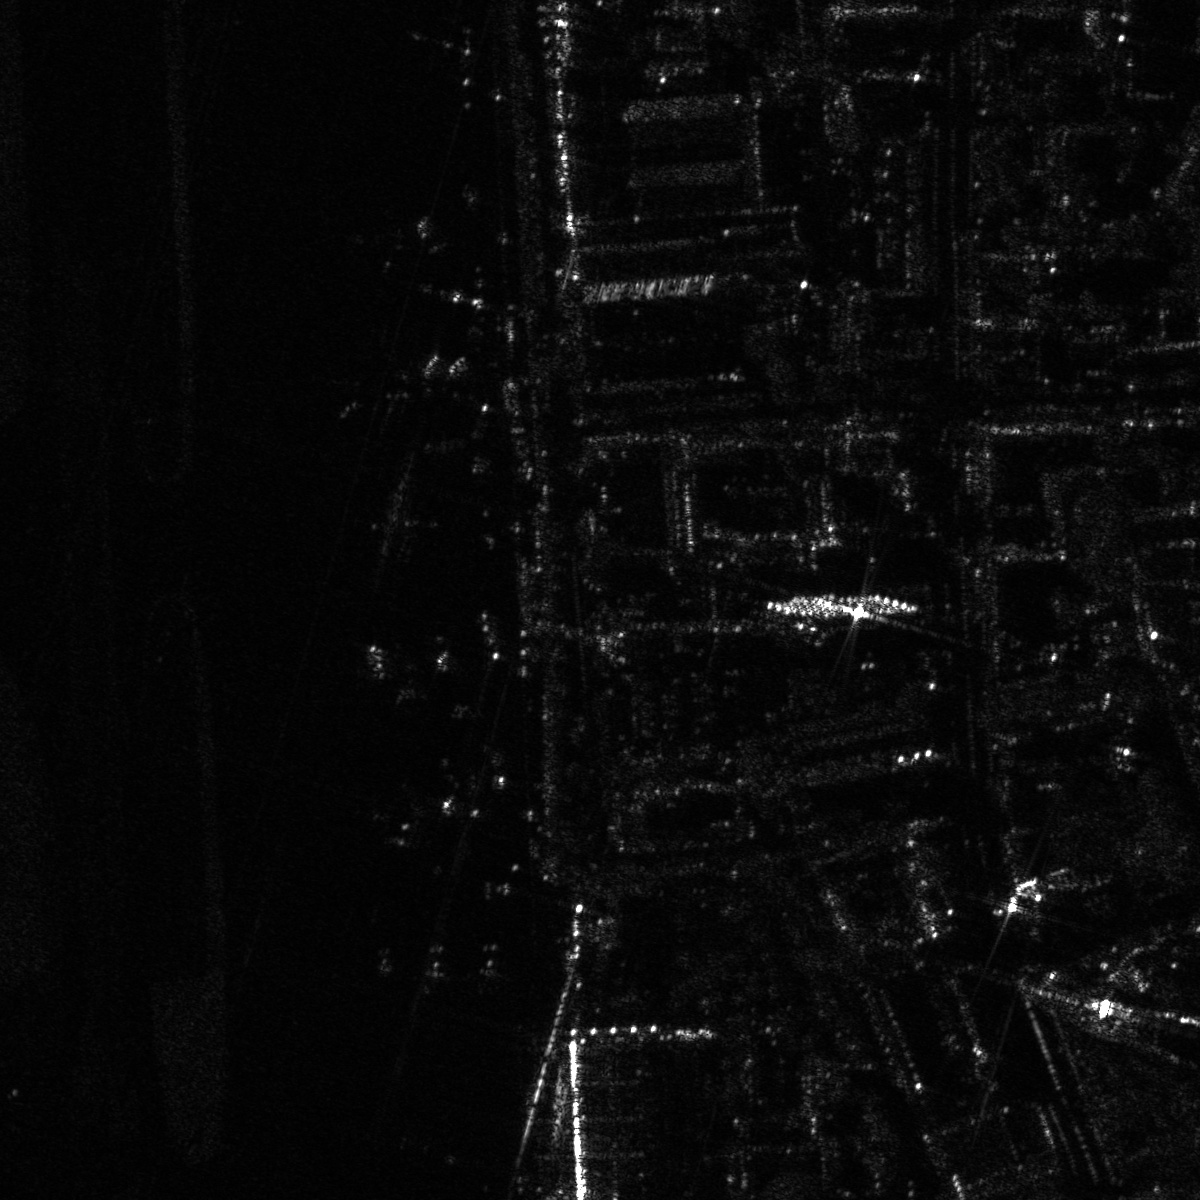ARJ21: (356, 625, 462, 708)
other: (347, 762, 464, 858)
